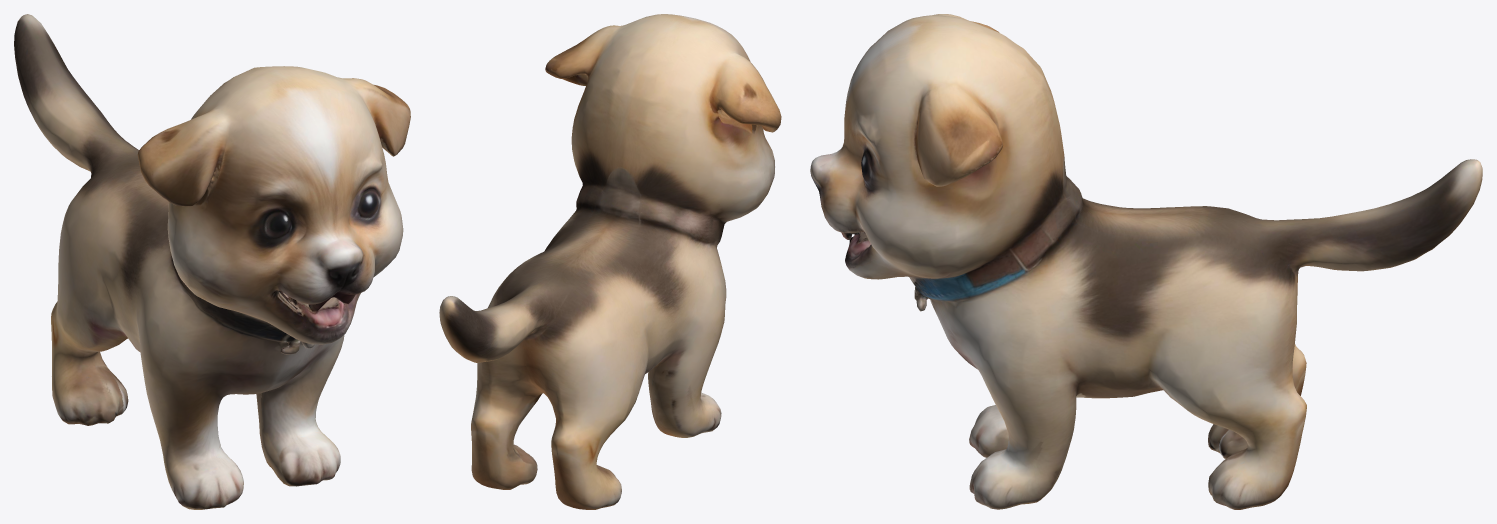
File: dog.glb
3 views of the same model, side by side, from view 1: azimuth 30°, elevation 25°; view 2: azimuth 150°, elevation 25°; view 3: azimuth 270°, elevation 25° (orthographic). The views are drawn at different scales.
Parts seen in each view (by area): view 1: Mesh1.0; view 2: Mesh1.0; view 3: Mesh1.0.
Part boxes in pixels (x1,y1,x2,y2): Mesh1.0: (14, 14, 410, 509); Mesh1.0: (439, 14, 781, 509); Mesh1.0: (810, 14, 1482, 509).
Bounding box in the file's own units: 0.9312 × 1.47 × 2.01.
Materials: 1 (1 with a texture image).
